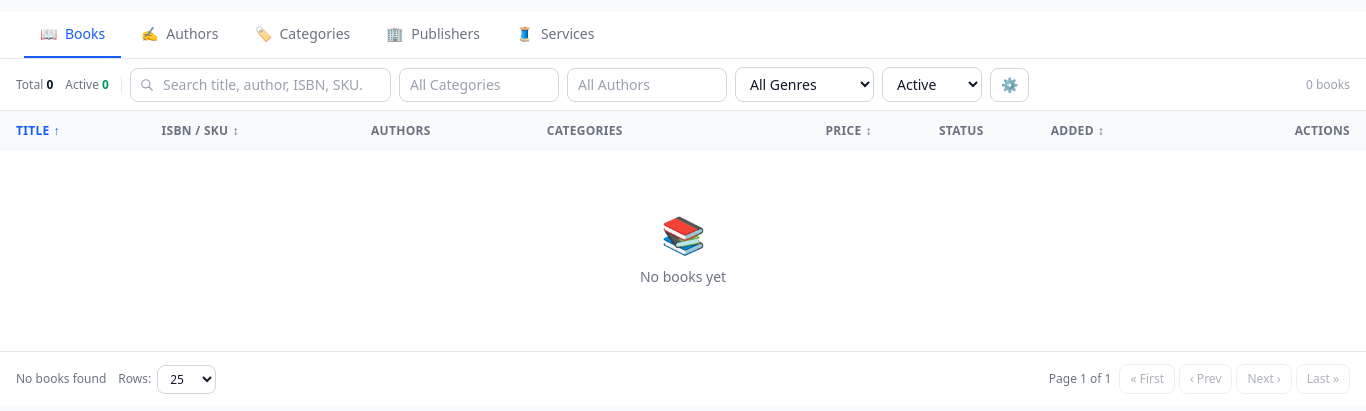
Test case: Catalog: Services tab (#169) › shows every role the list with the effective fee of the branch, read-only for Sales (1a, 3a)
The image size is (1366, 411).
Click the button "🧵 Services". click: (555, 35)
box: [500, 12, 610, 58]
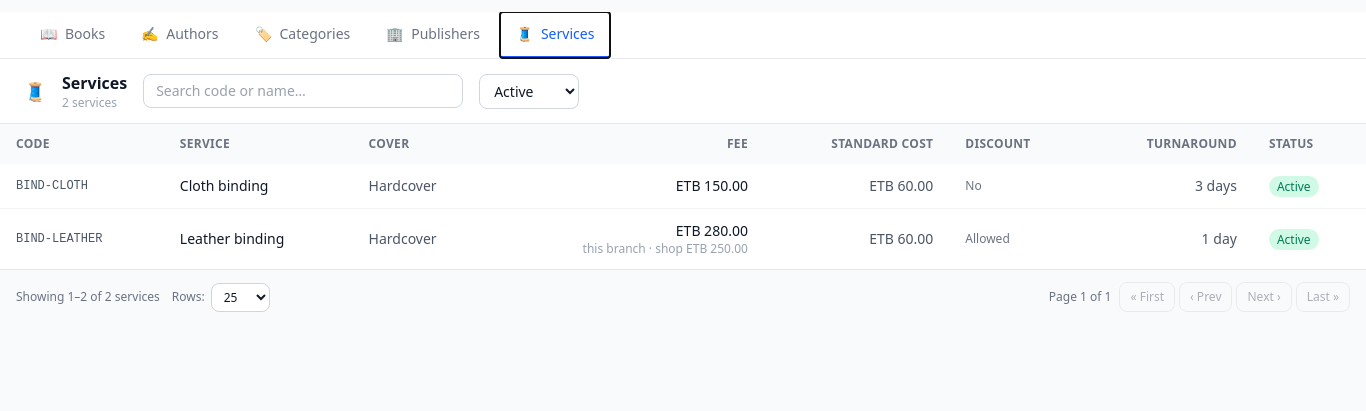
Expected: the text "Cloth binding" is shown, [164, 164, 353, 208]
Expected: the text "ETB 280.00" is shown, [676, 221, 748, 240]
Expected: the text "this branch · shop ETB 250.00" is shown, [583, 240, 748, 257]
